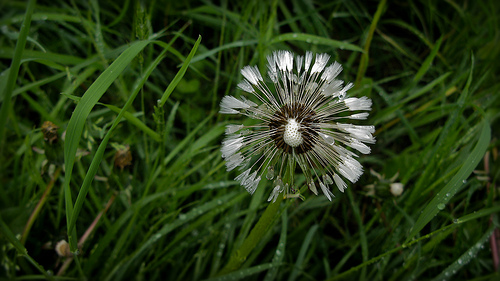dandelion white: (217, 46, 377, 206)
